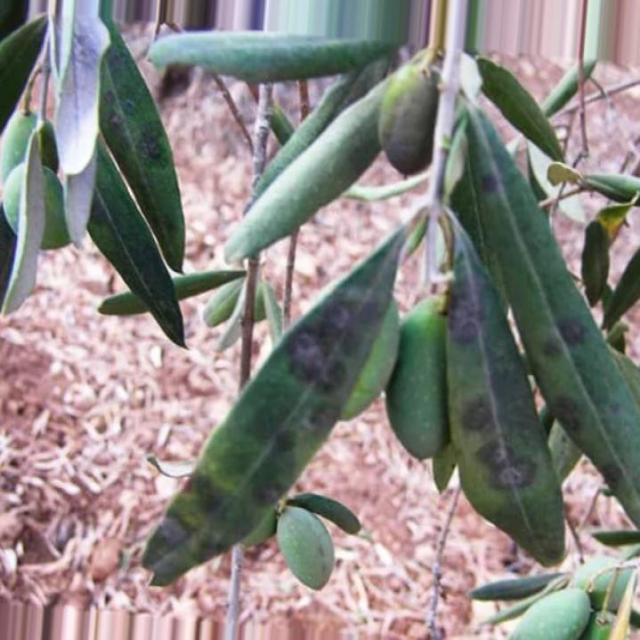Peacock Eye: (142, 221, 412, 585), (471, 115, 639, 515), (448, 229, 564, 564), (101, 20, 184, 246)
